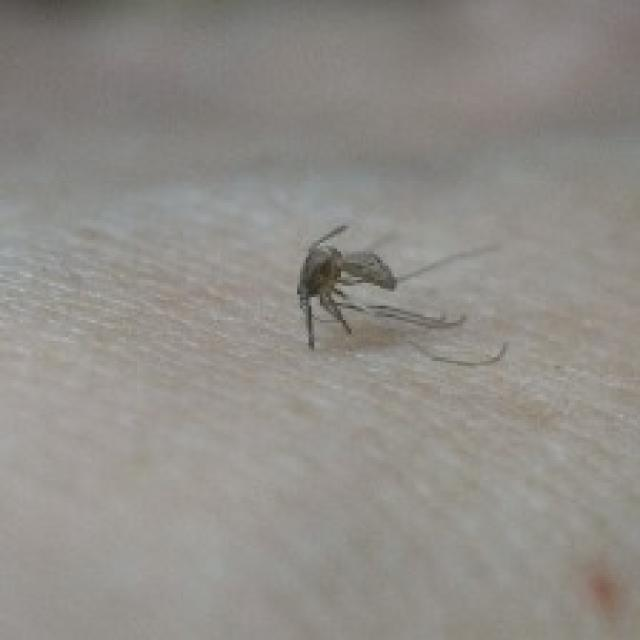culex: (291, 220, 506, 366)
